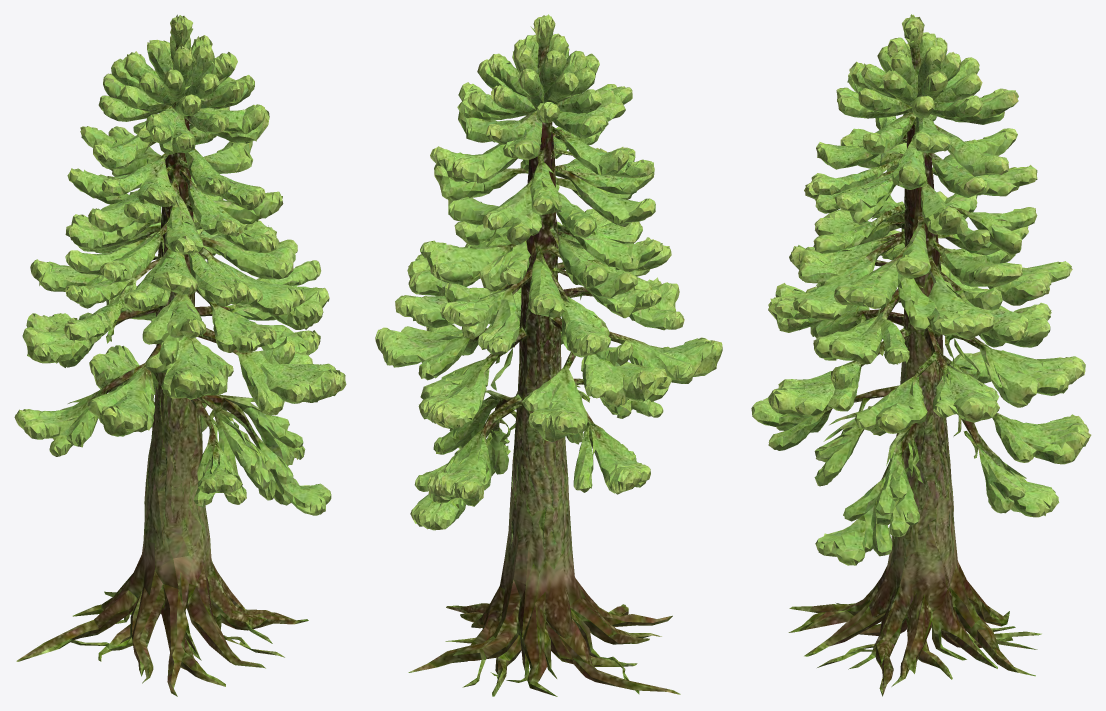
Rendered from tree-pine-a.glb.
The picture shows the model from 3 angles, left to right: view 1: azimuth 30°, elevation 25°; view 2: azimuth 150°, elevation 25°; view 3: azimuth 270°, elevation 25°; orthographic projection.
Parts seen in each view (by area): view 1: output_unwrapped; view 2: output_unwrapped; view 3: output_unwrapped.
Part boxes in pixels (<box>): output_unwrapped: <box>14,14,346,696</box>; output_unwrapped: <box>375,14,722,696</box>; output_unwrapped: <box>751,14,1091,696</box>.
Size of the model in its own units: 9.5 by 19.87 by 9.77.
Materials: 1 (1 with a texture image).
